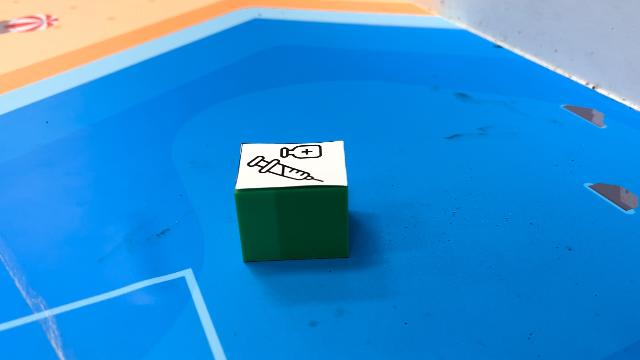syringe: (236, 142, 350, 262)
